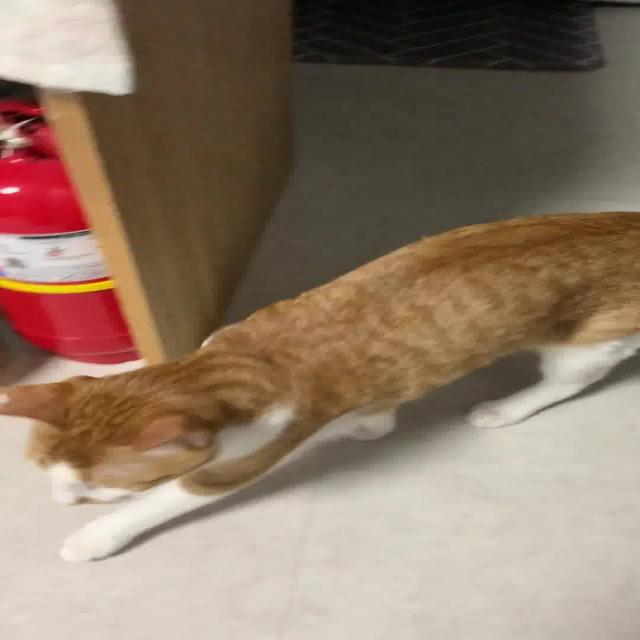cat: (0, 190, 640, 566)
